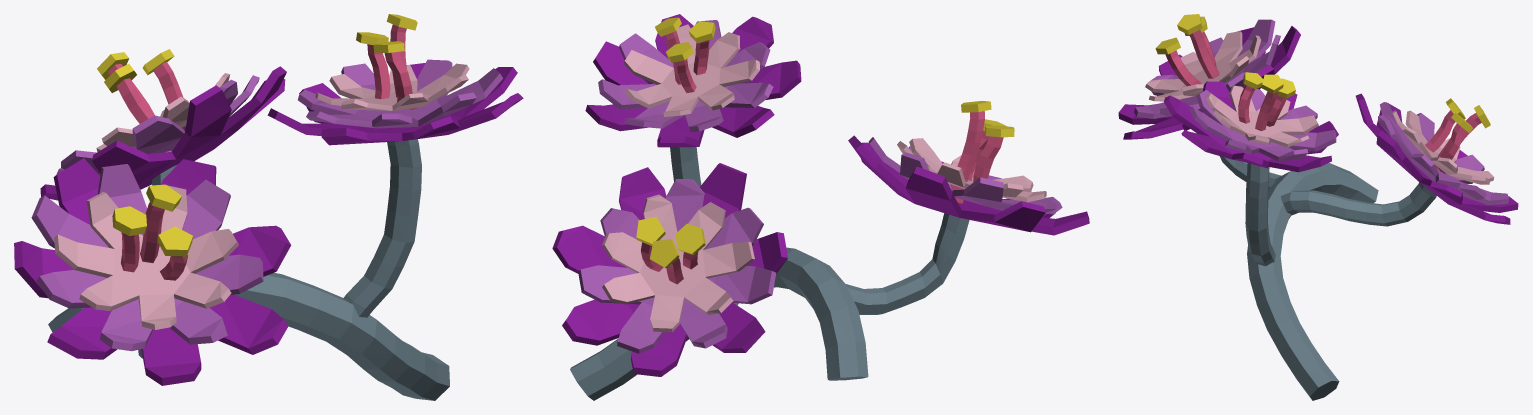
3 renders of one model, left to right at view 1: azimuth 30°, elevation 25°; view 2: azimuth 150°, elevation 25°; view 3: azimuth 270°, elevation 25°, orthographic. The views are drawn at different scales.
Visible parts, largest first — view 1: node_MeshObject-1837949952-PolyPaper21; view 2: node_MeshObject-1837949952-PolyPaper21; view 3: node_MeshObject-1837949952-PolyPaper21.
Boxes of the visible parts, box(x1,y1,x2,y2) form: node_MeshObject-1837949952-PolyPaper21: box(14, 14, 523, 400); node_MeshObject-1837949952-PolyPaper21: box(552, 14, 1089, 400); node_MeshObject-1837949952-PolyPaper21: box(1118, 14, 1518, 400).
Bounding box in the file's own units: 0.3674 × 0.2893 × 0.3457.
